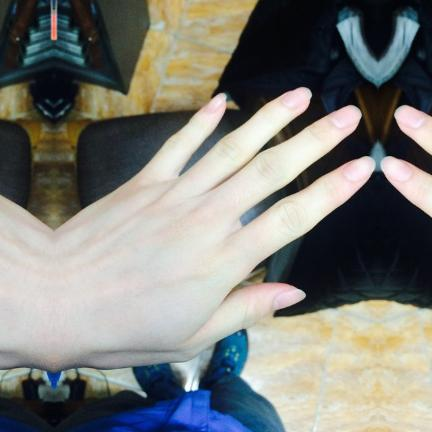Nail: (343, 156, 376, 181), (380, 156, 413, 181), (272, 288, 306, 311), (329, 106, 361, 130), (395, 106, 427, 130), (281, 88, 311, 110), (203, 93, 227, 113)
